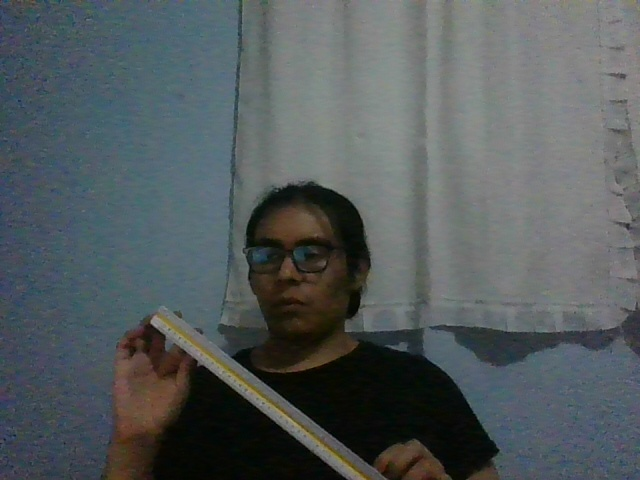regla: (150, 304, 386, 480)
